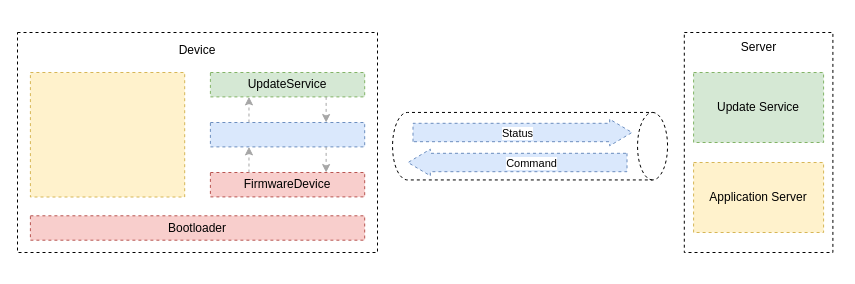
This 855x284 diagram has some shape labels left out. Here are the shapes that lost their labels. From the top down, the box of each, then its label:
(29, 72, 185, 197): Application
(209, 122, 365, 147): Updater
(392, 112, 668, 180): Transport
